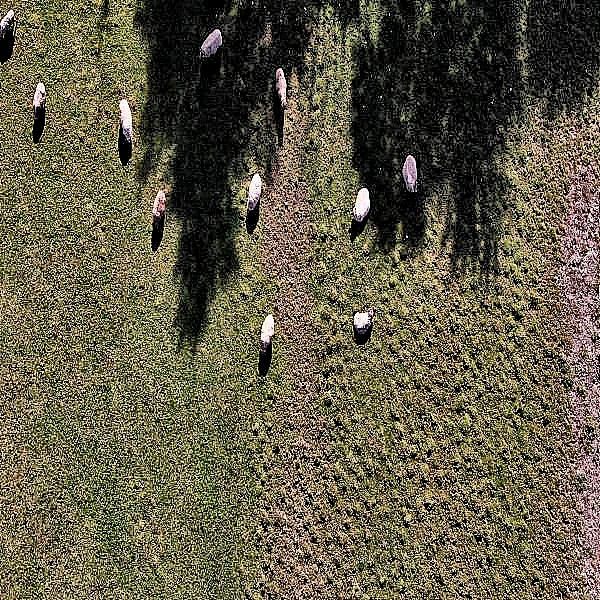sheep: (113, 90, 137, 146), (255, 307, 279, 362), (349, 296, 380, 337), (269, 57, 291, 111), (348, 182, 369, 230), (403, 149, 423, 197), (245, 172, 266, 215), (31, 77, 51, 122), (198, 20, 223, 55), (0, 6, 19, 52), (151, 186, 168, 236)
